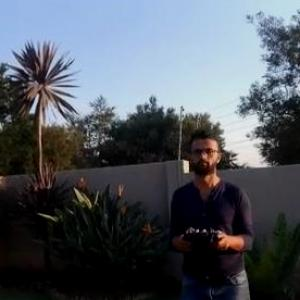follow: (165, 124, 263, 299)
